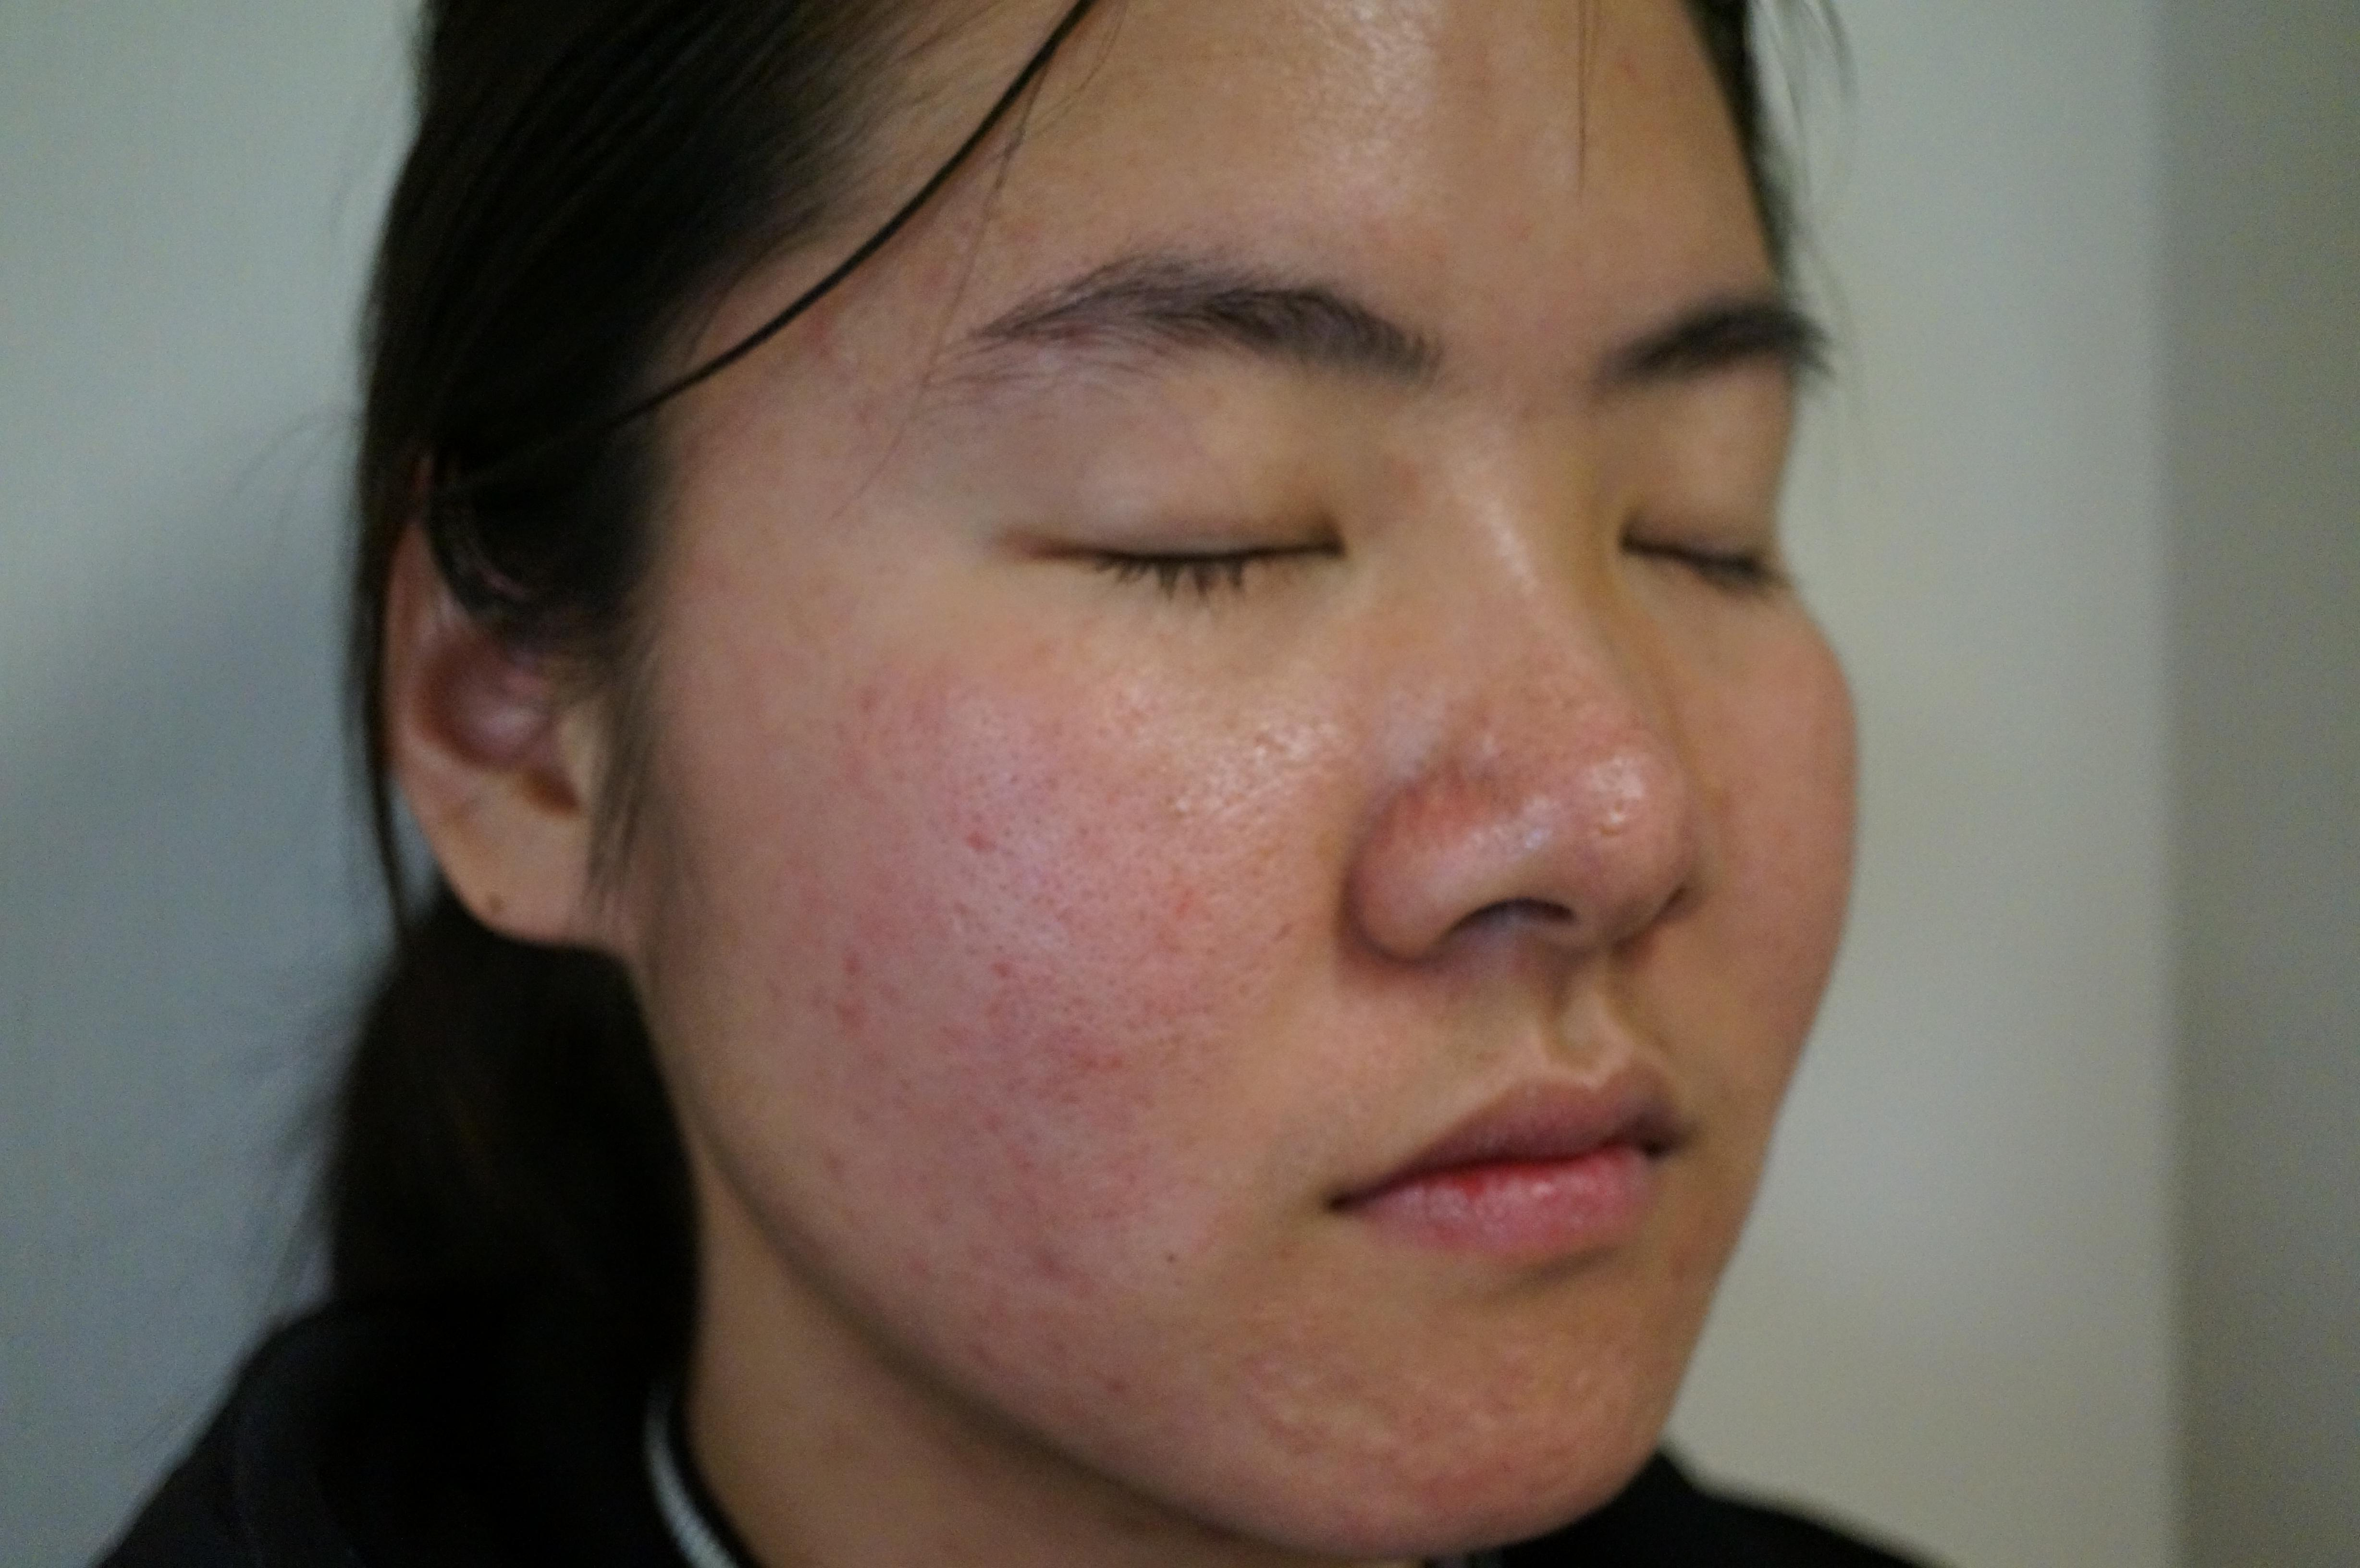fore: (1396, 749, 1505, 864), (798, 301, 869, 390)
